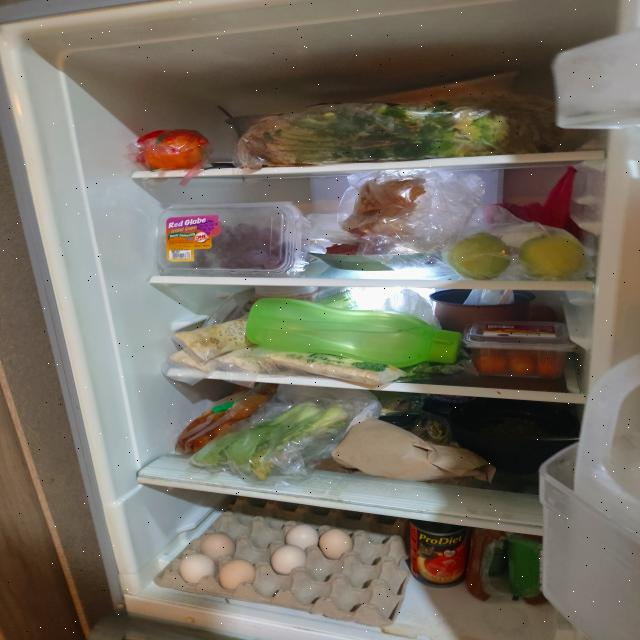apple: (448, 232, 511, 280), (520, 228, 583, 276)
egg: (154, 498, 410, 626)
grape: (158, 201, 310, 277)
leafy_greens: (244, 100, 555, 164)
orange: (144, 128, 206, 170)
pakchoy: (198, 402, 352, 482)
tempeh: (170, 312, 268, 374), (267, 352, 410, 386)
